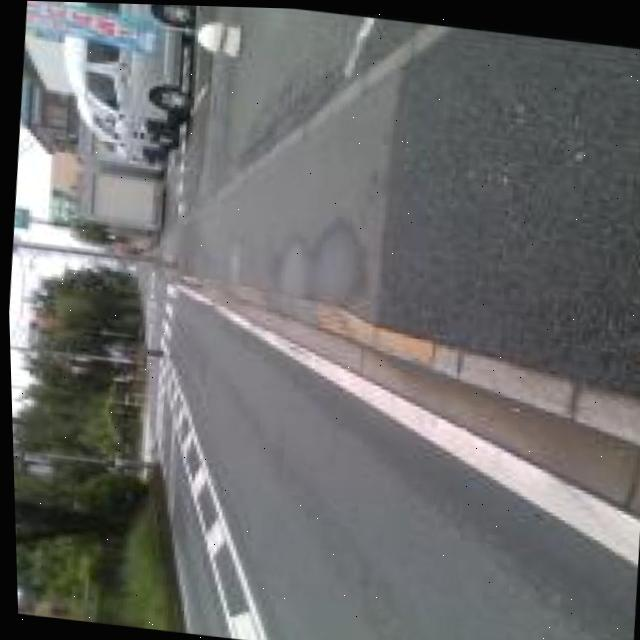Automobile: (73, 2, 192, 164)
Obstacle: (25, 1, 240, 54), (11, 234, 156, 261)
Road: (139, 262, 637, 640)
Sidewalk: (165, 5, 640, 392), (223, 282, 640, 442)
